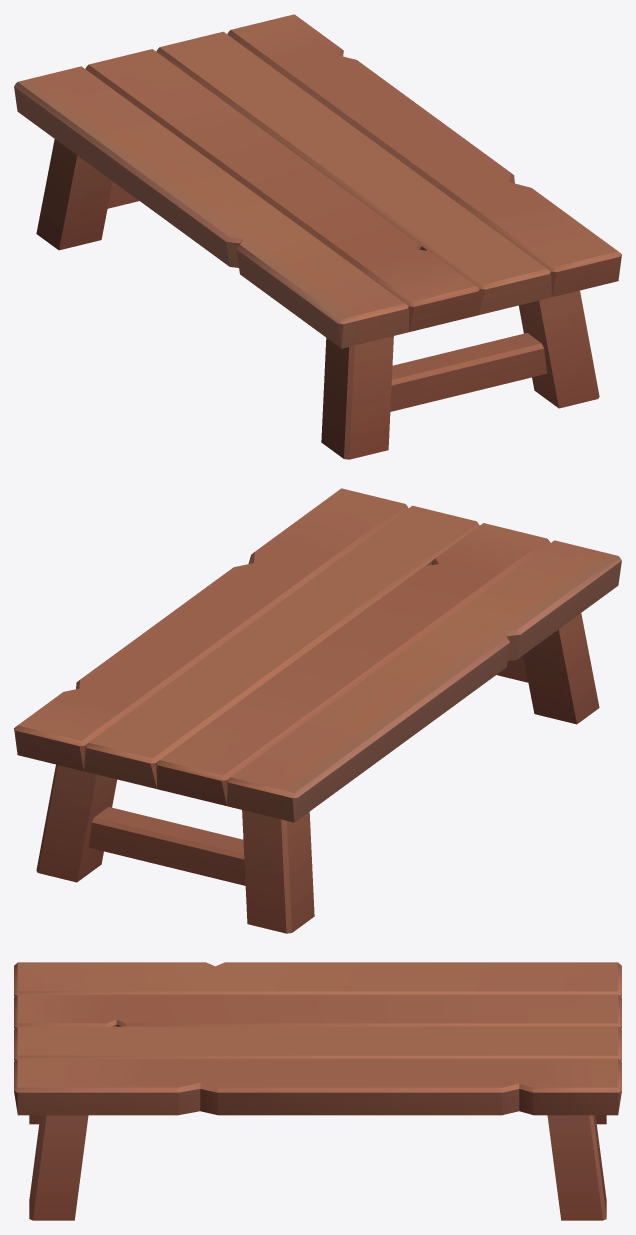
Rendered from table_long.glb.
3 views of the same model, one above another, from view 1: azimuth 30°, elevation 25°; view 2: azimuth 150°, elevation 25°; view 3: azimuth 270°, elevation 25° (orthographic). The views are drawn at different scales.
Visible parts, largest first — view 1: table_long; view 2: table_long; view 3: table_long.
Part boxes in pixels (x1,y1,x2,y2): table_long: [14, 14, 621, 459]; table_long: [14, 488, 621, 933]; table_long: [14, 962, 621, 1220].
Bounding box in the file's own units: 2 × 1 × 4.
Materials: 1 (1 with a texture image).
